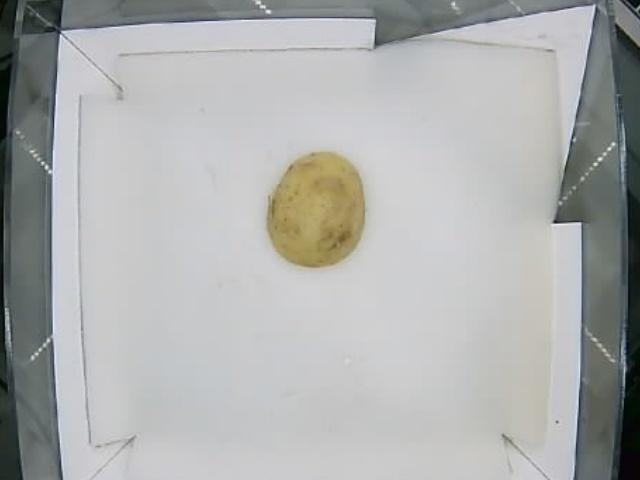Potato: (265, 150, 367, 271)
